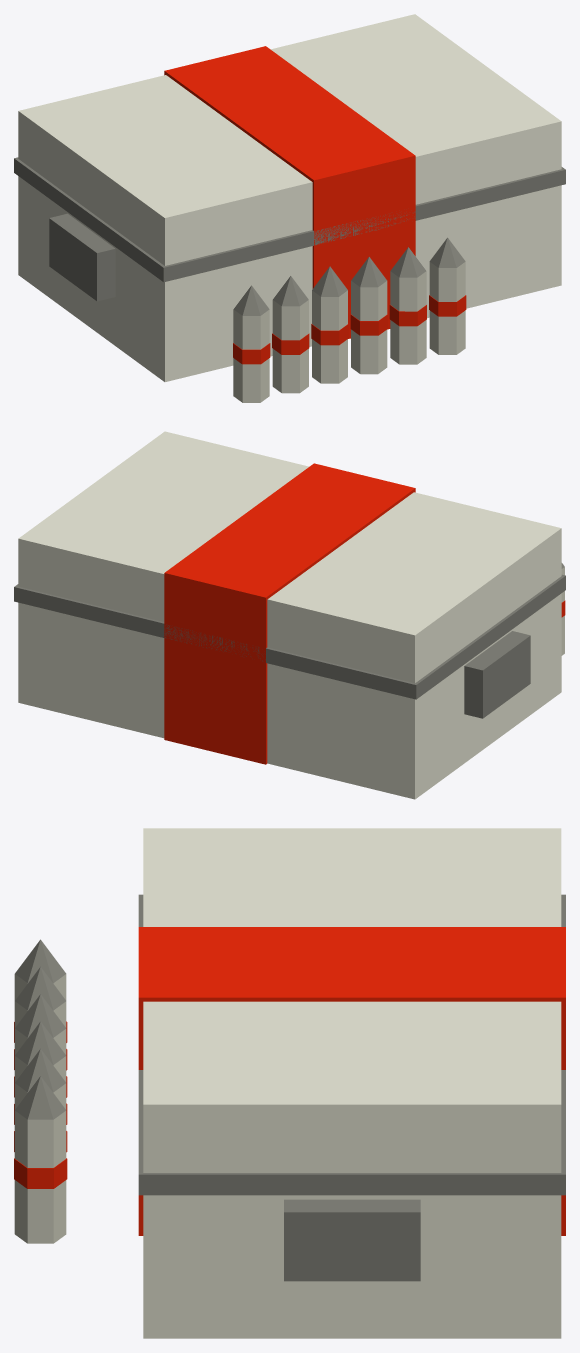
The model's file is ce_ammo_chcells_conc_c.obj.
3 views of the same model, one above another, from view 1: azimuth 30°, elevation 25°; view 2: azimuth 150°, elevation 25°; view 3: azimuth 270°, elevation 25° (orthographic). The views are drawn at different scales.
Visible parts, largest first — view 1: ce_ammo_chcells_conc_c_0, ce_ammo_chcells_conc_c_1, ce_ammo_chcells_conc_c_2, ce_ammo_chcells_conc_c_3, ce_ammo_chcells_conc_c_14, ce_ammo_chcells_conc_c_8, ce_ammo_chcells_conc_c_17, ce_ammo_chcells_conc_c_5, ce_ammo_chcells_conc_c_20, ce_ammo_chcells_conc_c_11, ce_ammo_chcells_conc_c_16, ce_ammo_chcells_conc_c_10 (+10 smaller); view 2: ce_ammo_chcells_conc_c_0, ce_ammo_chcells_conc_c_1, ce_ammo_chcells_conc_c_2, ce_ammo_chcells_conc_c_3; view 3: ce_ammo_chcells_conc_c_0, ce_ammo_chcells_conc_c_1, ce_ammo_chcells_conc_c_4, ce_ammo_chcells_conc_c_2, ce_ammo_chcells_conc_c_20, ce_ammo_chcells_conc_c_22, ce_ammo_chcells_conc_c_21, ce_ammo_chcells_conc_c_7, ce_ammo_chcells_conc_c_10, ce_ammo_chcells_conc_c_16, ce_ammo_chcells_conc_c_13, ce_ammo_chcells_conc_c_19.
Boxes of the visible parts, bbox=[...] form: ce_ammo_chcells_conc_c_0: bbox=[18, 14, 561, 381]; ce_ammo_chcells_conc_c_1: bbox=[164, 46, 415, 338]; ce_ammo_chcells_conc_c_2: bbox=[14, 157, 565, 282]; ce_ammo_chcells_conc_c_3: bbox=[49, 213, 115, 301]; ce_ammo_chcells_conc_c_14: bbox=[351, 281, 387, 374]; ce_ammo_chcells_conc_c_8: bbox=[272, 300, 308, 393]; ce_ammo_chcells_conc_c_17: bbox=[390, 271, 426, 364]; ce_ammo_chcells_conc_c_5: bbox=[233, 309, 269, 402]; ce_ammo_chcells_conc_c_20: bbox=[429, 262, 465, 354]; ce_ammo_chcells_conc_c_11: bbox=[312, 290, 347, 383]; ce_ammo_chcells_conc_c_16: bbox=[351, 257, 386, 287]; ce_ammo_chcells_conc_c_10: bbox=[273, 276, 308, 306]; ce_ammo_chcells_conc_c_0: bbox=[18, 431, 561, 799]; ce_ammo_chcells_conc_c_1: bbox=[164, 463, 415, 764]; ce_ammo_chcells_conc_c_2: bbox=[14, 574, 565, 699]; ce_ammo_chcells_conc_c_3: bbox=[464, 631, 530, 718]; ce_ammo_chcells_conc_c_0: bbox=[143, 828, 561, 1338]; ce_ammo_chcells_conc_c_1: bbox=[138, 927, 565, 1235]; ce_ammo_chcells_conc_c_4: bbox=[284, 1199, 420, 1281]; ce_ammo_chcells_conc_c_2: bbox=[138, 894, 565, 1195]; ce_ammo_chcells_conc_c_20: bbox=[14, 1110, 66, 1243]; ce_ammo_chcells_conc_c_22: bbox=[15, 1076, 66, 1119]; ce_ammo_chcells_conc_c_21: bbox=[14, 1158, 67, 1188]; ce_ammo_chcells_conc_c_7: bbox=[15, 939, 66, 983]; ce_ammo_chcells_conc_c_10: bbox=[15, 967, 65, 1010]; ce_ammo_chcells_conc_c_16: bbox=[15, 1021, 66, 1065]; ce_ammo_chcells_conc_c_13: bbox=[15, 994, 66, 1037]; ce_ammo_chcells_conc_c_19: bbox=[15, 1049, 65, 1092].
Bounding box in the file's own units: 0.94 × 0.346 × 0.726.
